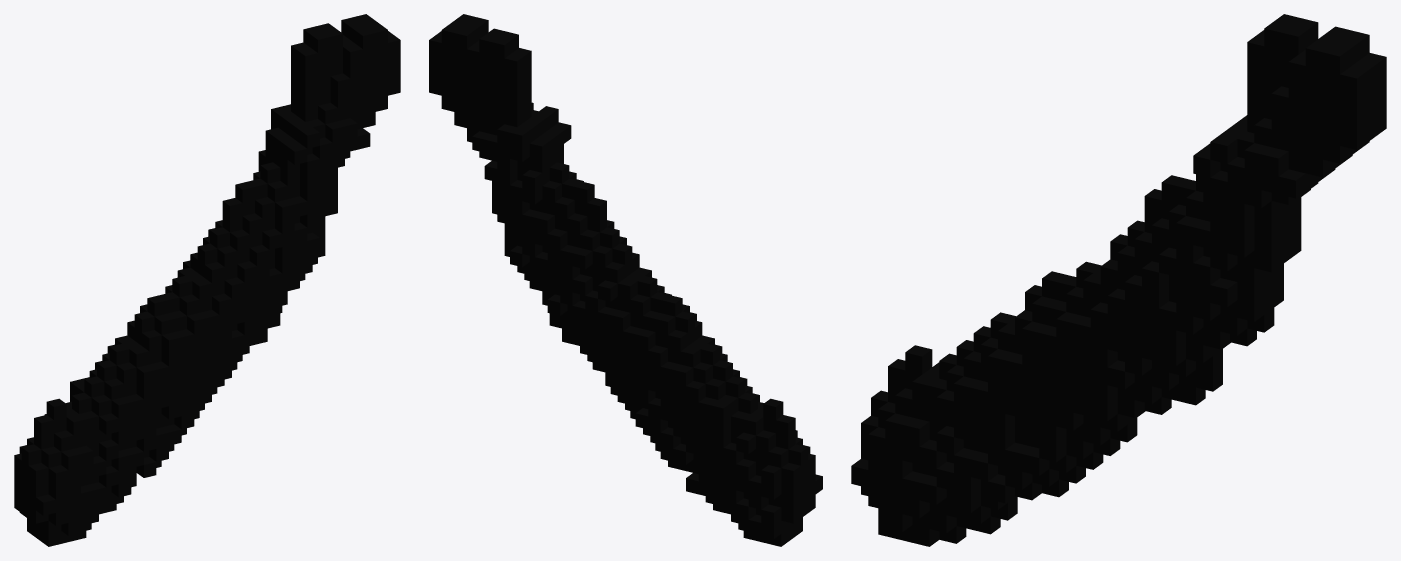
Rendered from ebitenn01.fbx.
3 views of the same model, side by side, from view 1: azimuth 30°, elevation 25°; view 2: azimuth 150°, elevation 25°; view 3: azimuth 330°, elevation 25° (orthographic). The views are drawn at different scales.
Parts seen in each view (by area): view 1: ObjObject; view 2: ObjObject; view 3: ObjObject.
Boxes of the visible parts, bbox=[...] form: ObjObject: bbox=[14, 14, 400, 546]; ObjObject: bbox=[429, 14, 822, 546]; ObjObject: bbox=[851, 14, 1386, 546].
Bounding box in the file's own units: 290 × 330 × 50.
